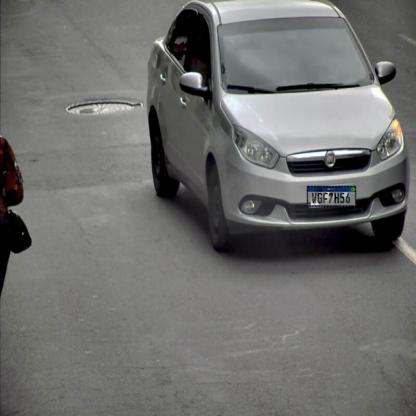PlacaM: (307, 186, 356, 206)
